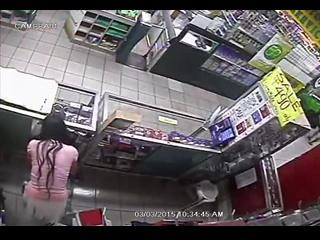Normal: (22, 114, 80, 226)
